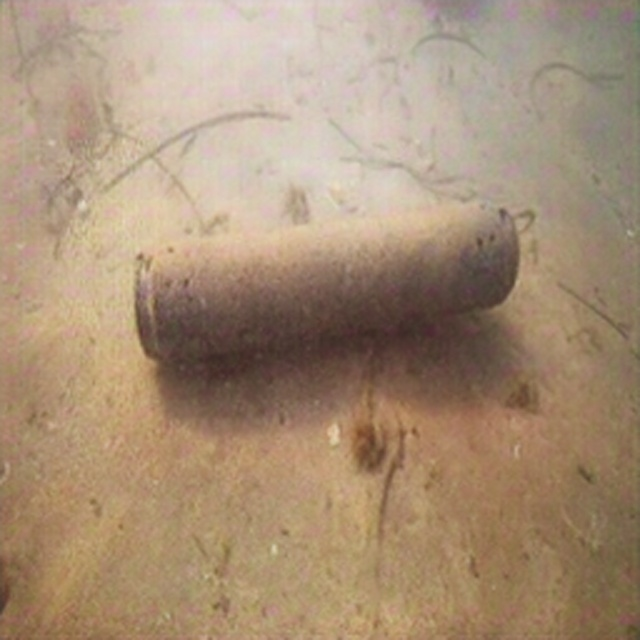mine: (133, 201, 520, 367)
